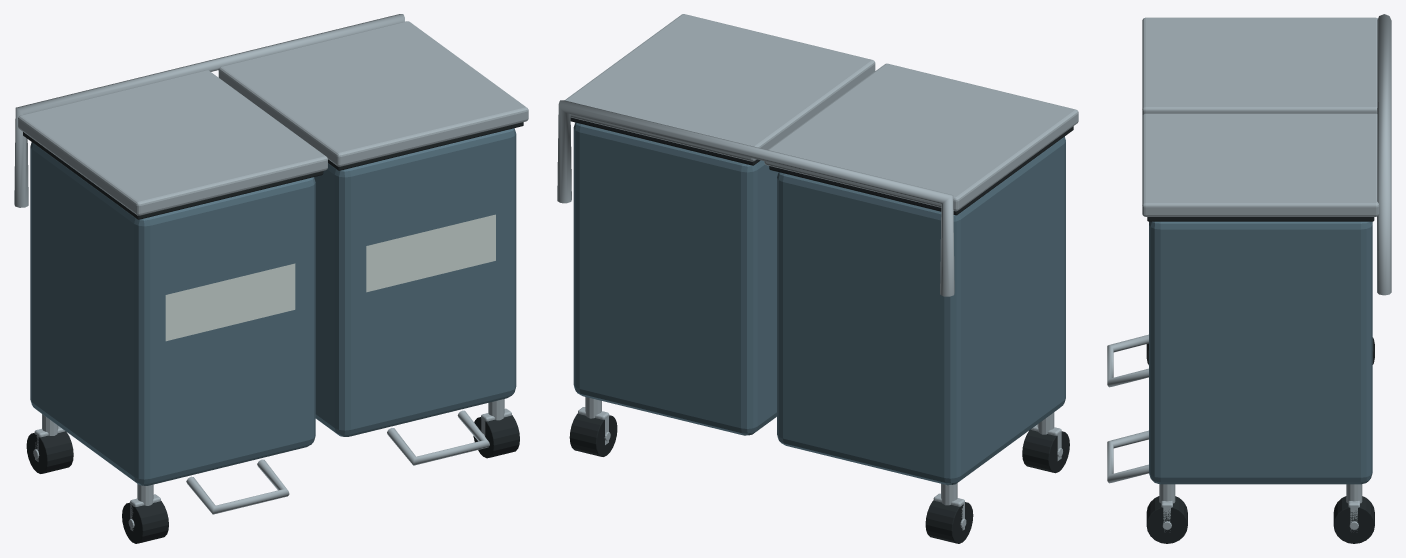
Rendered from OD_ClosedPPEReturn.fbx.
The picture shows the model from 3 angles, left to right: view 1: azimuth 30°, elevation 25°; view 2: azimuth 150°, elevation 25°; view 3: azimuth 270°, elevation 25°; orthographic projection. The views are drawn at different scales.
Visible parts, largest first — view 1: OD_ClosedPPEReturn; view 2: OD_ClosedPPEReturn; view 3: OD_ClosedPPEReturn.
Boxes of the visible parts, left/top/right/bottom form: OD_ClosedPPEReturn: left=14, top=14, right=528, bottom=543; OD_ClosedPPEReturn: left=557, top=14, right=1078, bottom=543; OD_ClosedPPEReturn: left=1107, top=14, right=1391, bottom=543.
Bounding box in the file's own units: 133 × 115 × 85.15.
